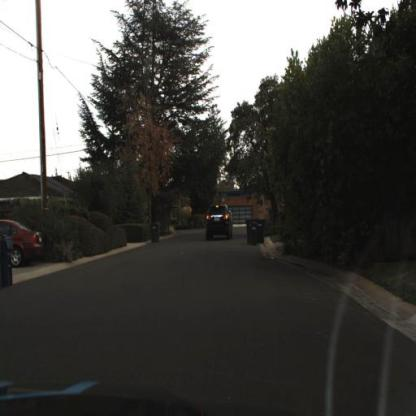car: (1, 217, 45, 268), (204, 197, 238, 250)
